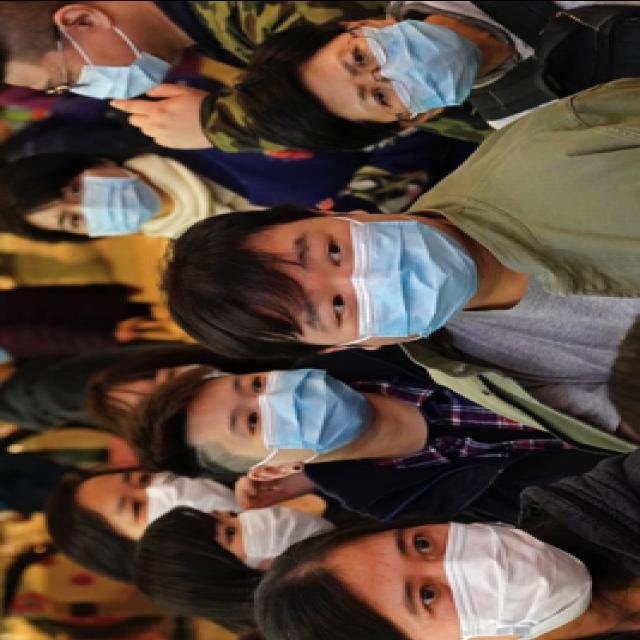with_mask: (386, 520, 600, 640), (288, 215, 480, 342), (328, 20, 479, 121), (223, 367, 371, 452), (110, 470, 240, 541), (48, 172, 163, 238), (209, 504, 333, 563), (36, 51, 175, 99)
